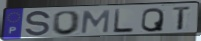L: (112, 8, 135, 34)
M: (80, 9, 112, 34)
O: (50, 10, 83, 36)
Q: (140, 7, 166, 33)
S: (24, 10, 52, 39)
T: (171, 5, 193, 32)
